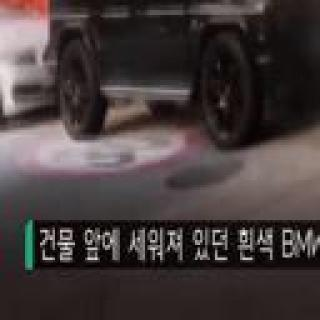fire: (0, 0, 51, 15)
